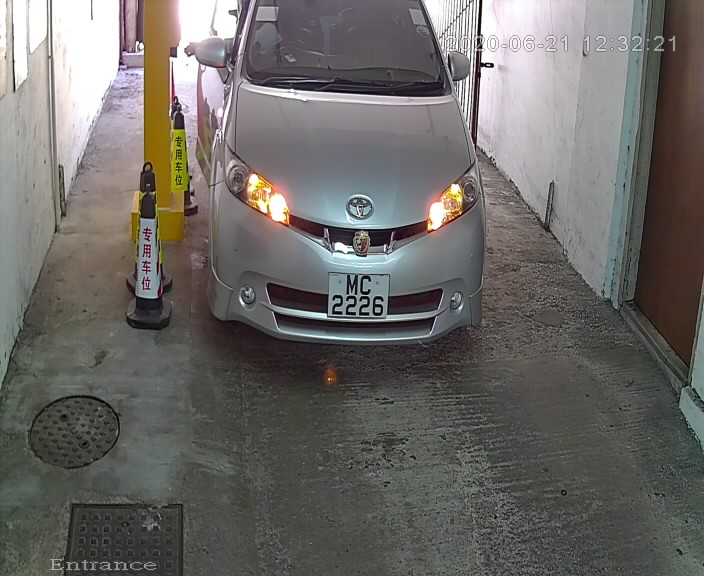privatecar: (184, 1, 504, 376)
